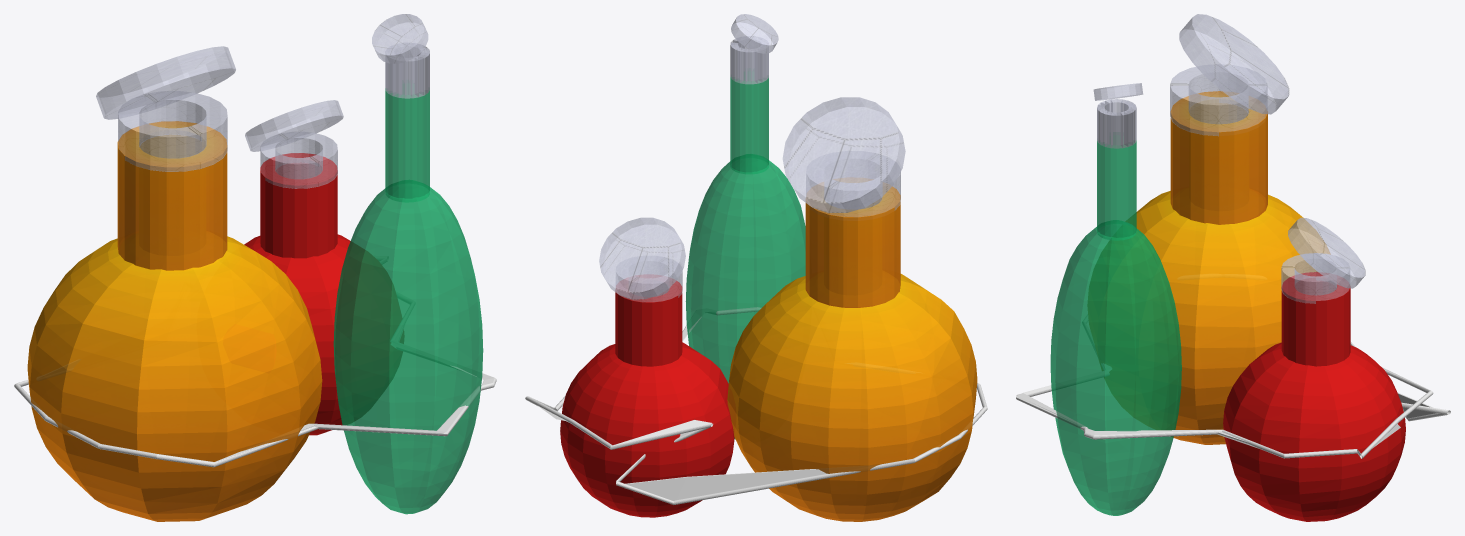
File: sample_bottle.fbx
The picture shows the model from 3 angles, left to right: view 1: azimuth 30°, elevation 25°; view 2: azimuth 150°, elevation 25°; view 3: azimuth 270°, elevation 25°; orthographic projection. The views are drawn at different scales.
Parts seen in each view (by area): view 1: polySurface18; view 2: polySurface18; view 3: polySurface18.
Boxes of the visible parts, x1=… form: polySurface18: x1=14, y1=14, x2=496, y2=521; polySurface18: x1=525, y1=14, x2=987, y2=521; polySurface18: x1=1016, y1=14, x2=1450, y2=521.
Bounding box in the file's own units: 11.53 × 12.73 × 11.58.
Materials: 5 (4 with a texture image).
